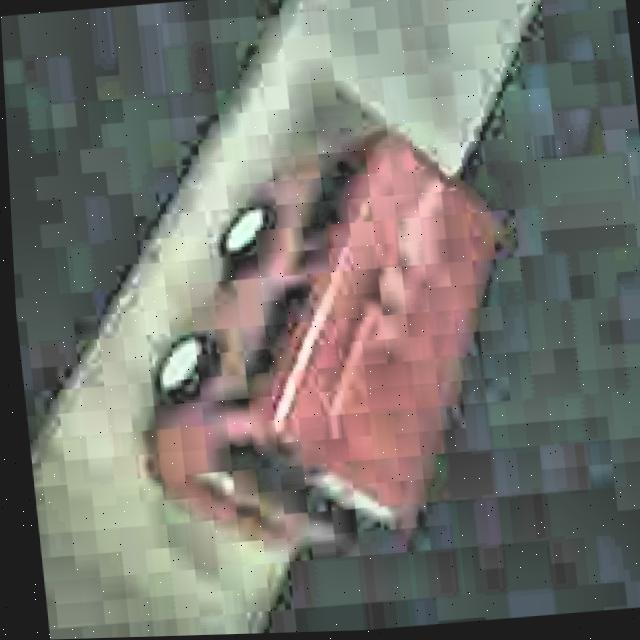bus: (111, 123, 536, 558)
